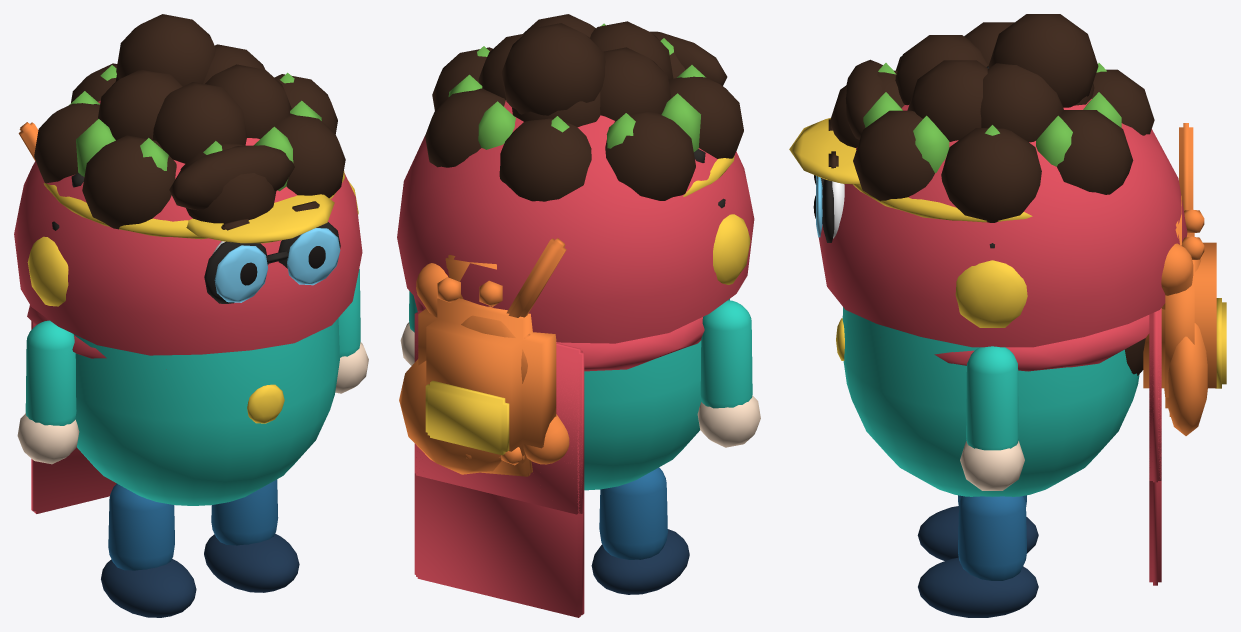
Rendered from avatar.glb.
The picture shows the model from 3 angles, left to right: view 1: azimuth 30°, elevation 25°; view 2: azimuth 150°, elevation 25°; view 3: azimuth 270°, elevation 25°; orthographic projection. The views are drawn at different scales.
Visible parts, largest first — view 1: tronco, capuz, cabelo_cacheado, cabelo_coque, braco_e, perna_e, cabelo_franja, acc_oculos_lentes, bota_d, bota_e, acc_bone, capa_longa (+11 smaller); view 2: capuz, cabelo_cacheado, capa_longa, tronco, costas_mochila, capa_curta, cabelo_coque, costas_violao, perna_e, braco_e, costas_mochila_bolso, acc_folhas (+8 smaller); view 3: capuz, cabelo_cacheado, tronco, cabelo_coque, perna_d, braco_d, costas_mochila, bota_d, costas_violao, gola_capa, acc_fone_conchas, acc_folhas (+11 smaller).
Part boxes in pixels (<box>): tronco: <box>73,318,339,505</box>; capuz: <box>14,100,362,355</box>; cabelo_cacheado: <box>34,44,345,229</box>; cabelo_coque: <box>116,14,215,86</box>; braco_e: <box>25,320,76,425</box>; perna_e: <box>108,483,174,570</box>; cabelo_franja: <box>169,145,294,210</box>; acc_oculos_lentes: <box>214,228,340,302</box>; bota_d: <box>204,533,299,592</box>; bota_e: <box>101,559,196,617</box>; acc_bone: <box>186,194,334,243</box>; capa_longa: <box>31,326,116,513</box>; capuz: <box>397,100,754,343</box>; cabelo_cacheado: <box>425,14,743,201</box>; capa_longa: <box>414,317,584,617</box>; tronco: <box>584,299,729,490</box>; costas_mochila: <box>418,298,556,463</box>; capa_curta: <box>414,309,584,514</box>; cabelo_coque: <box>501,23,605,115</box>; costas_violao: <box>399,238,566,474</box>; perna_e: <box>599,467,667,559</box>; braco_e: <box>700,300,752,408</box>; costas_mochila_bolso: <box>425,380,509,455</box>; acc_folhas: <box>448,23,705,151</box>; capuz: <box>818,99,1187,347</box>; cabelo_cacheado: <box>830,22,1154,222</box>; tronco: <box>842,307,1139,496</box>; cabelo_coque: <box>988,14,1098,107</box>; perna_d: <box>958,496,1026,580</box>; braco_d: <box>966,346,1018,450</box>; costas_mochila: <box>1143,233,1216,408</box>; bota_d: <box>918,557,1038,617</box>; costas_violao: <box>1164,123,1207,435</box>; gola_capa: <box>934,315,1149,371</box>; acc_fone_conchas: <box>955,260,1027,327</box>; acc_folhas: <box>863,63,1121,173</box>.
Size of the model in its own units: 1.99 by 3.09 by 2.15.
